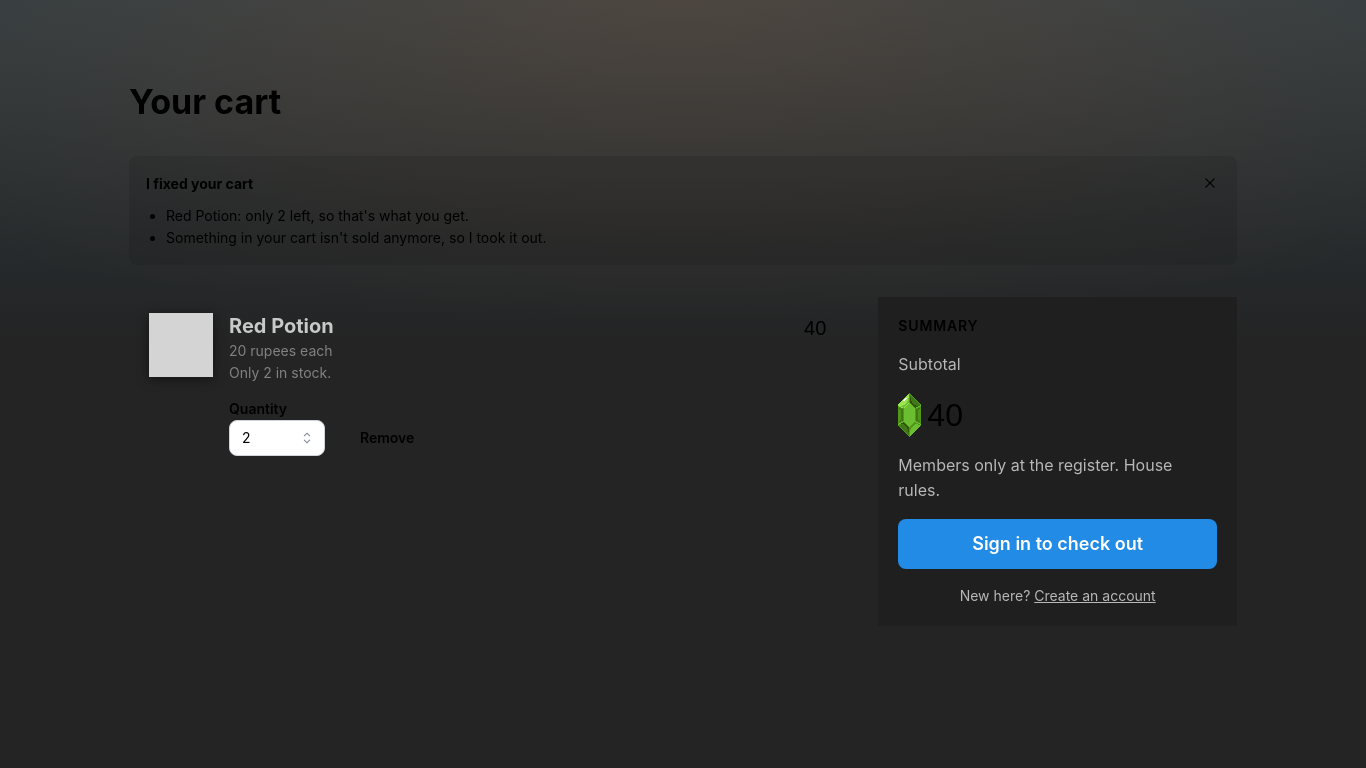
CartPage › lowers quantities past the stock on hand and drops products that are gone
Check: the list item "Red Potion: only 2 left, so that's what you get." is shown, box [166,207,469,224]
Check: the list item "Something in your cart isn't sold anymore, so I took it out." is shown, box [166,229,546,246]
What coordinates should you click on to do the following:
click the button named "Dismiss"
I would click on:
 (1210, 183)
Its box is [1200,173,1220,193].
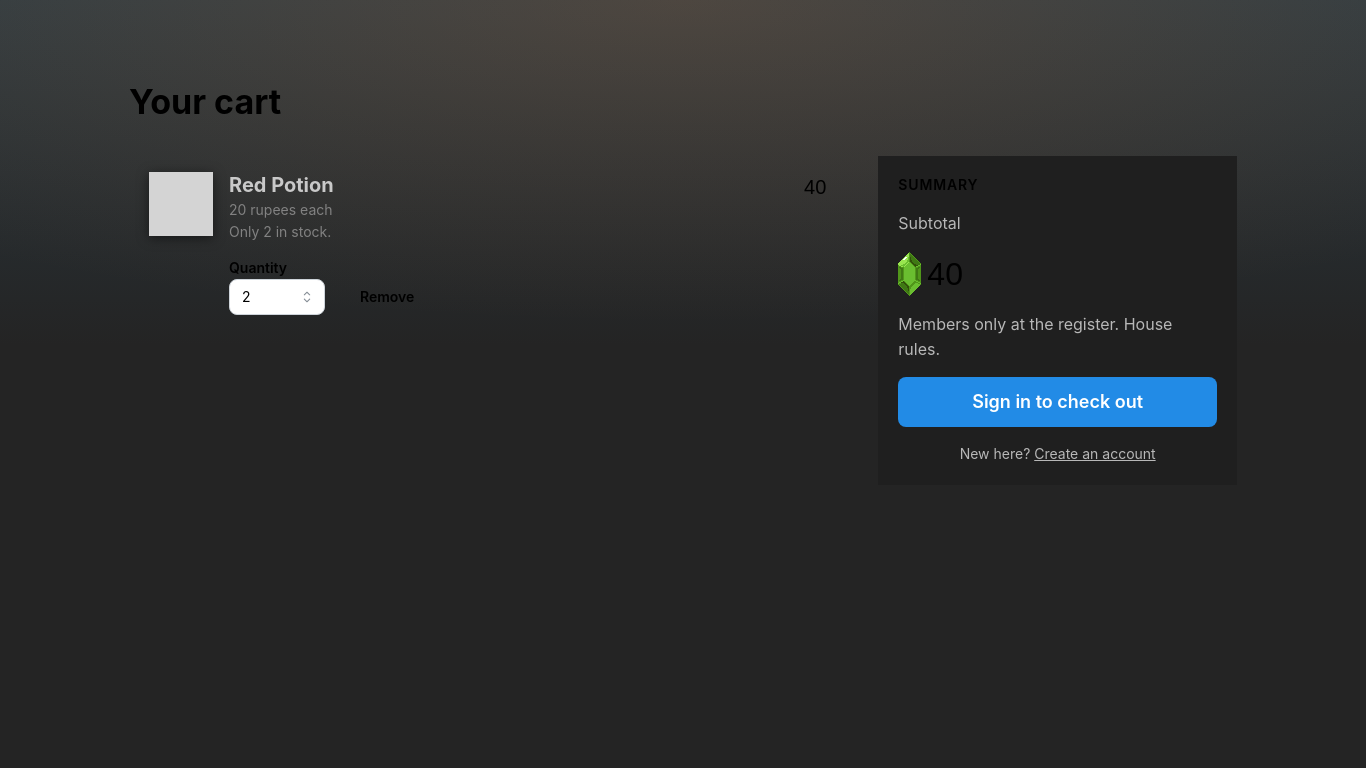
Check: the message "I fixed your cart Red Potion: only 2 left, so that's what you get. Something in" is gone
